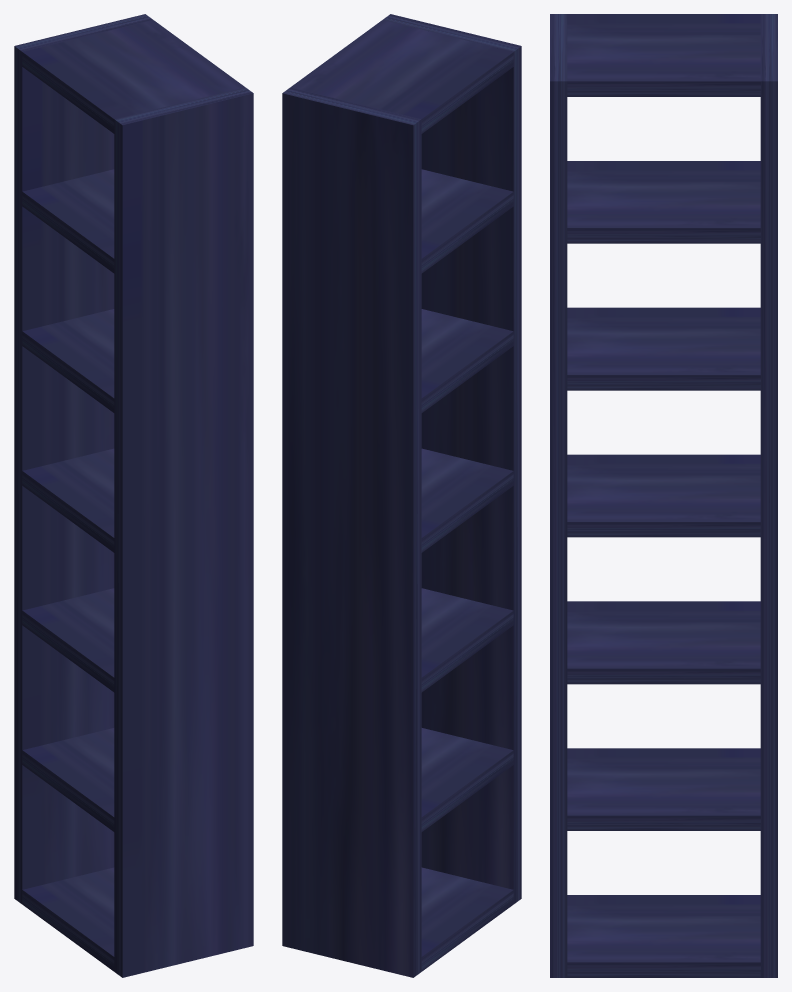
File: obj_Shelf.obj
3 views of the same model, side by side, from view 1: azimuth 30°, elevation 25°; view 2: azimuth 150°, elevation 25°; view 3: azimuth 270°, elevation 25° (orthographic). The views are drawn at different scales.
Visible parts, largest first — view 1: obj_Shelf; view 2: obj_Shelf; view 3: obj_Shelf.
Part boxes in pixels (x1,y1,x2,y2): obj_Shelf: (14, 14, 253, 977); obj_Shelf: (282, 14, 521, 977); obj_Shelf: (550, 14, 777, 977).
Size of the model in its own units: 0.3978 by 2.47 by 0.5692.
